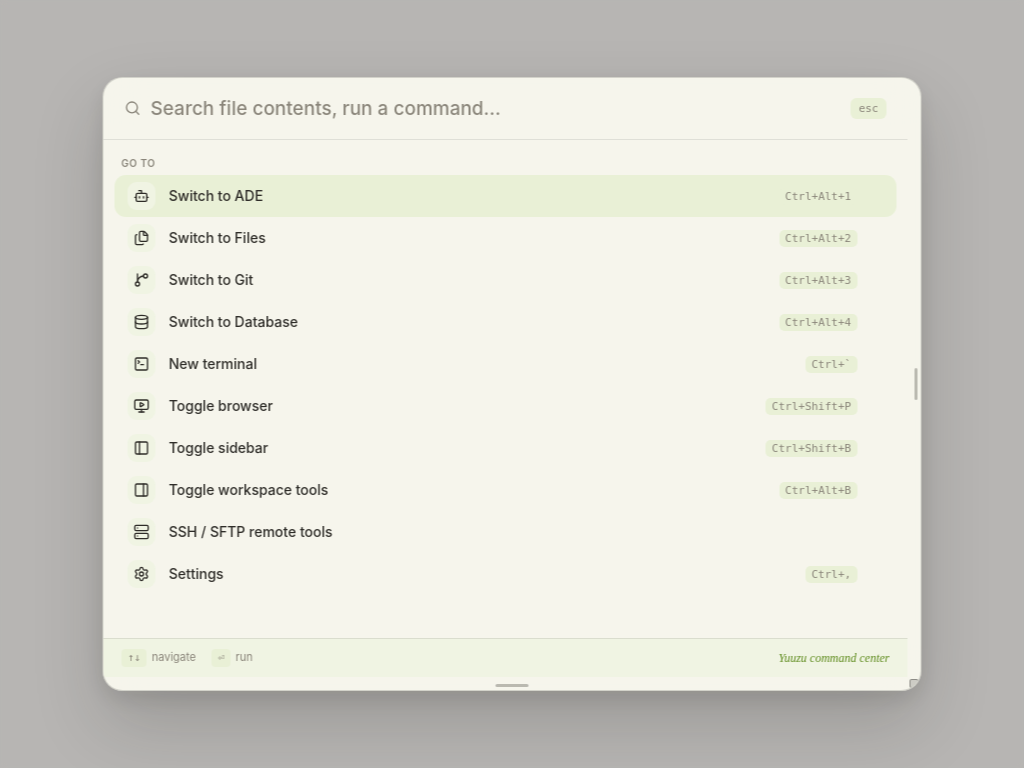
Ctrl+Shift+F inside an open palette drops the '>' command prefix and refocuses the input
Type ">settings" into the dropdown with placeholder "Search file contents, run a command…" at (496, 109), box [150, 95, 841, 122]
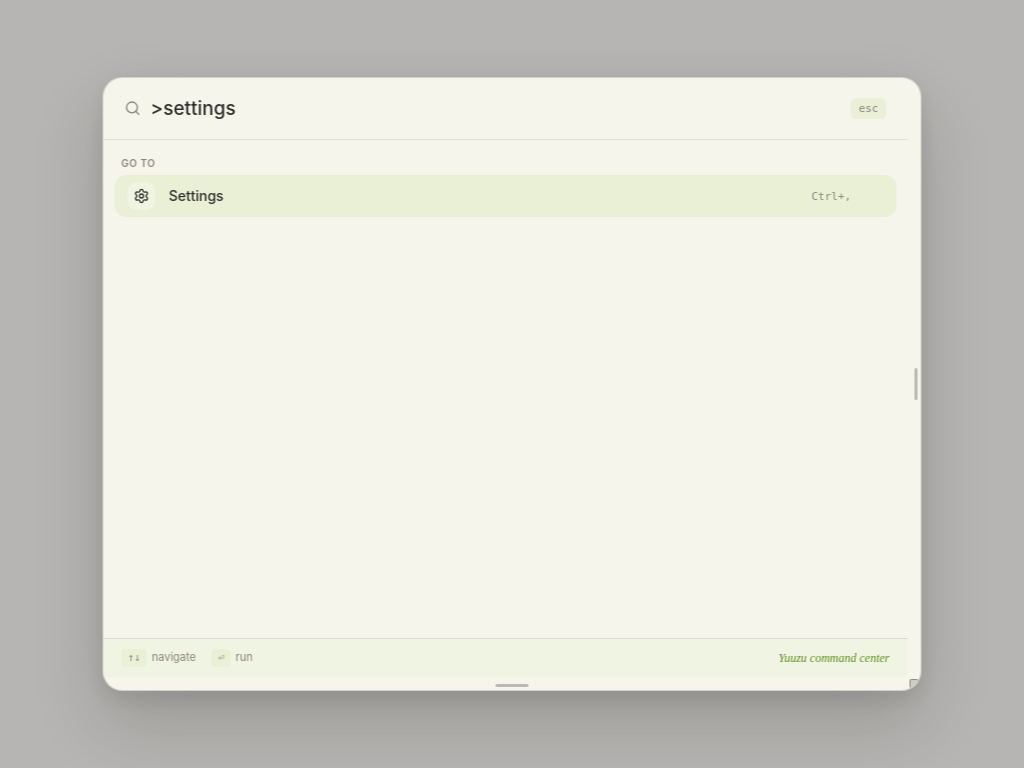
Press F in the dialog
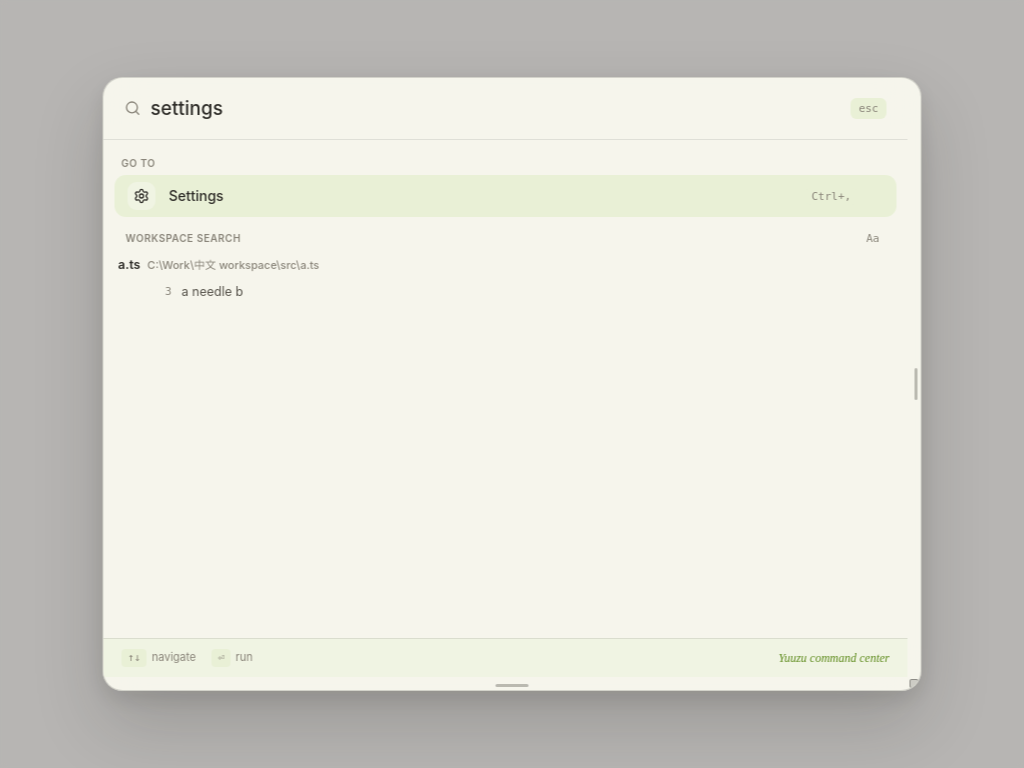
Expected: the dropdown with placeholder "Search file contents, run a command…" holds "settings", [150, 95, 841, 122]
